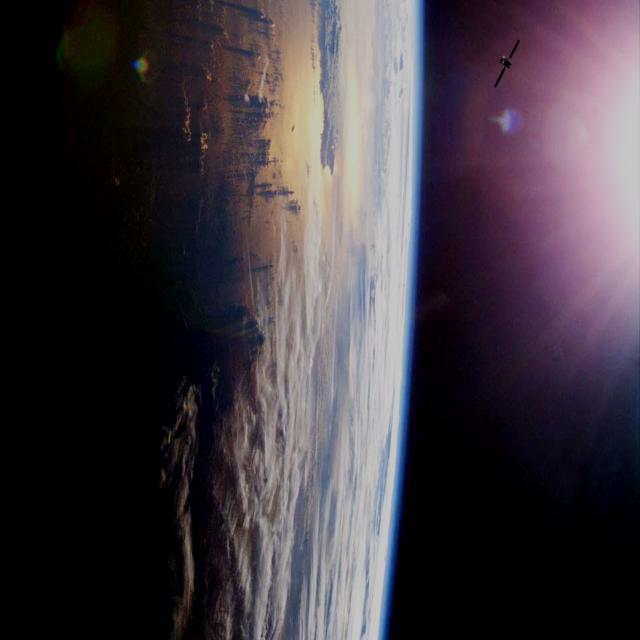satellite: (491, 34, 526, 95)
